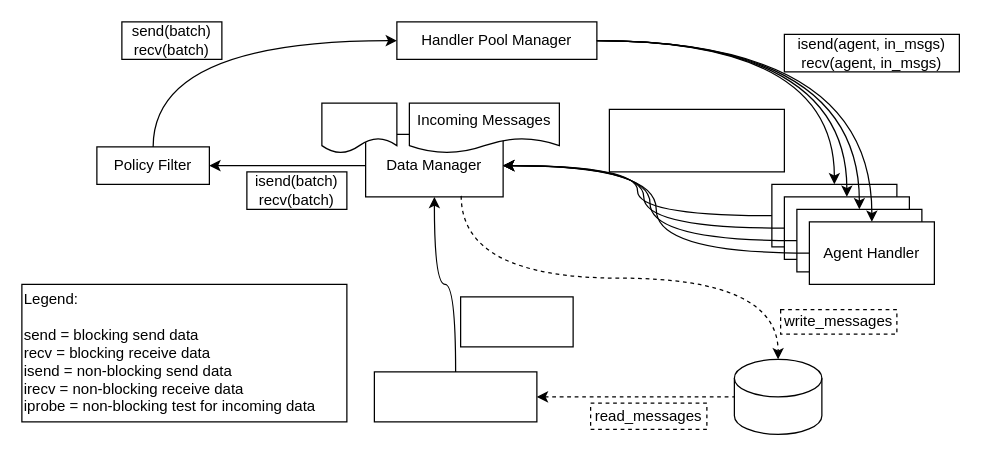
Image size: 981x456. Some labels were removed from this diagram. Each missing label, with the centre of its shape:
"Agents" goes at (359,127).
"Convergence Monitor" goes at (455,396).
"Disk" goes at (777,396).
"send('sigterm') recv('sigterm')" goes at (516,321).
"send(agent, new_msgs) iprobe(handler) recv(agent, new_msgs)" goes at (696,140).
